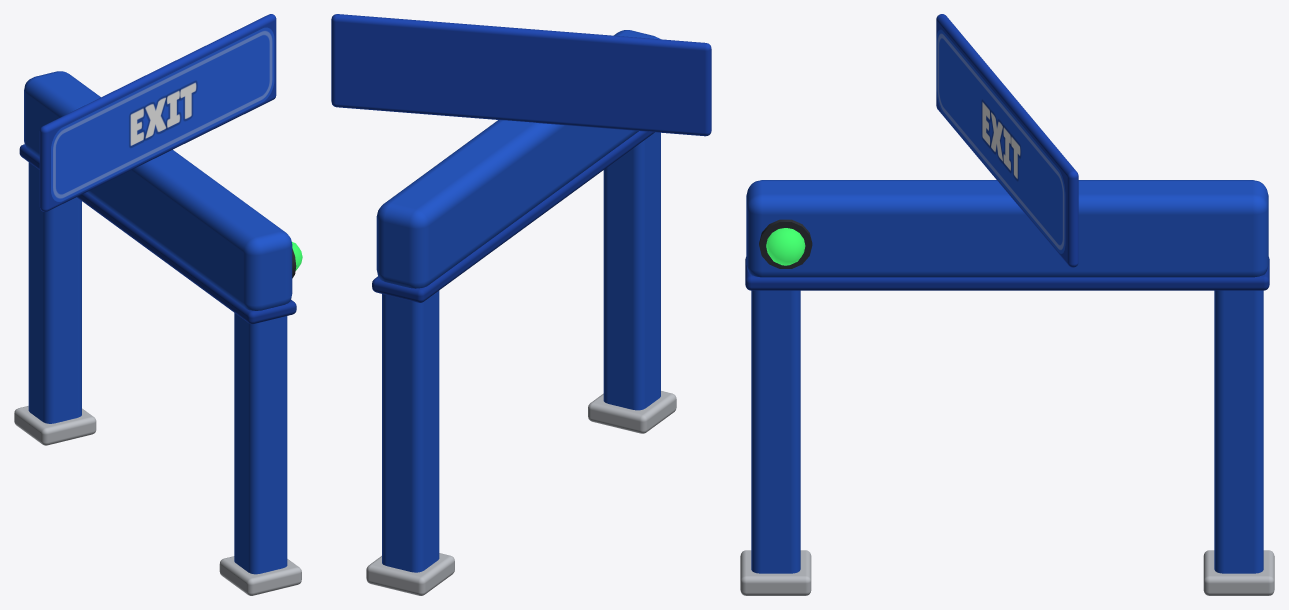
The model's file is gate_exit.glb.
3 renders of one model, left to right at view 1: azimuth 30°, elevation 25°; view 2: azimuth 150°, elevation 25°; view 3: azimuth 270°, elevation 25°, orthographic. The views are drawn at different scales.
Visible parts, largest first — view 1: Gate_exit; view 2: Gate_exit; view 3: Gate_exit, Lamp.
Part boxes in pixels (box(x1,y1,x2,y2)): Gate_exit: box(14, 14, 301, 595); Gate_exit: box(331, 14, 711, 595); Gate_exit: box(740, 14, 1274, 595); Lamp: box(766, 228, 805, 265).
Size of the model in its own units: 3.87 by 5.49 by 5.42.
5 materials, 1 textured.
